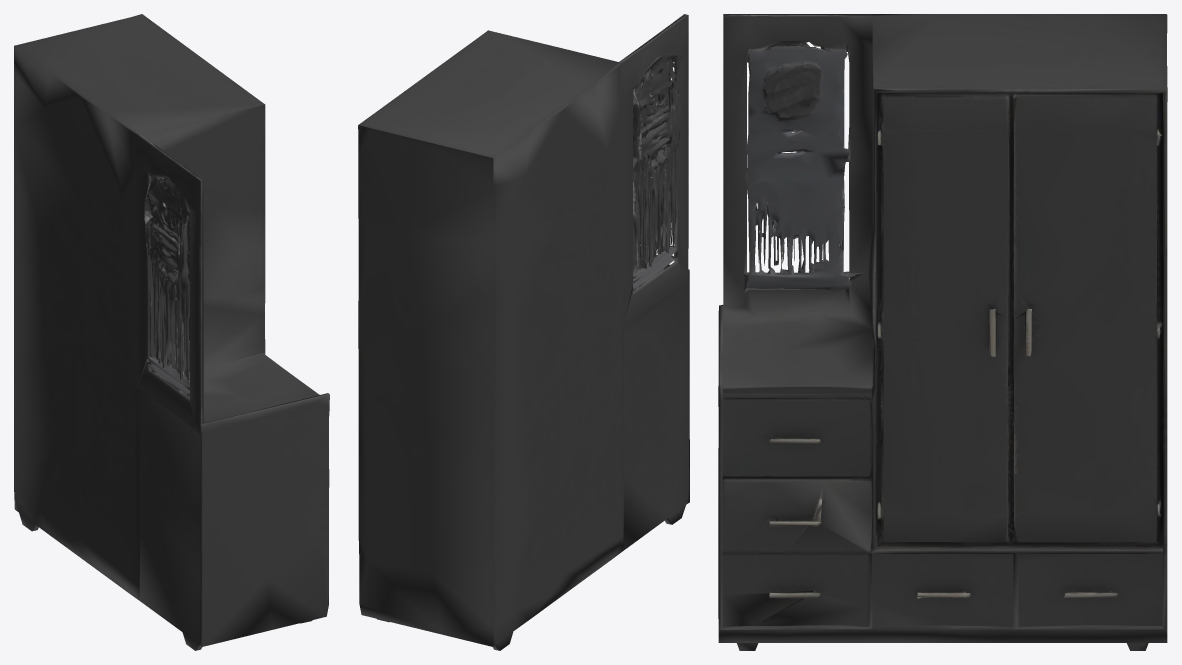
Rendered from ropero.fbx.
3 views of the same model, side by side, from view 1: azimuth 30°, elevation 25°; view 2: azimuth 150°, elevation 25°; view 3: azimuth 270°, elevation 25° (orthographic). The views are drawn at different scales.
Visible parts, largest first — view 1: tripo_node_ca7c4972; view 2: tripo_node_ca7c4972; view 3: tripo_node_ca7c4972.
Boxes of the visible parts, bbox=[...] form: tripo_node_ca7c4972: bbox=[14, 14, 329, 650]; tripo_node_ca7c4972: bbox=[358, 14, 689, 650]; tripo_node_ca7c4972: bbox=[718, 14, 1167, 650].
Bounding box in the file's own units: 0.3059 × 0.9998 × 0.7176.
Materials: 1 (1 with a texture image).
